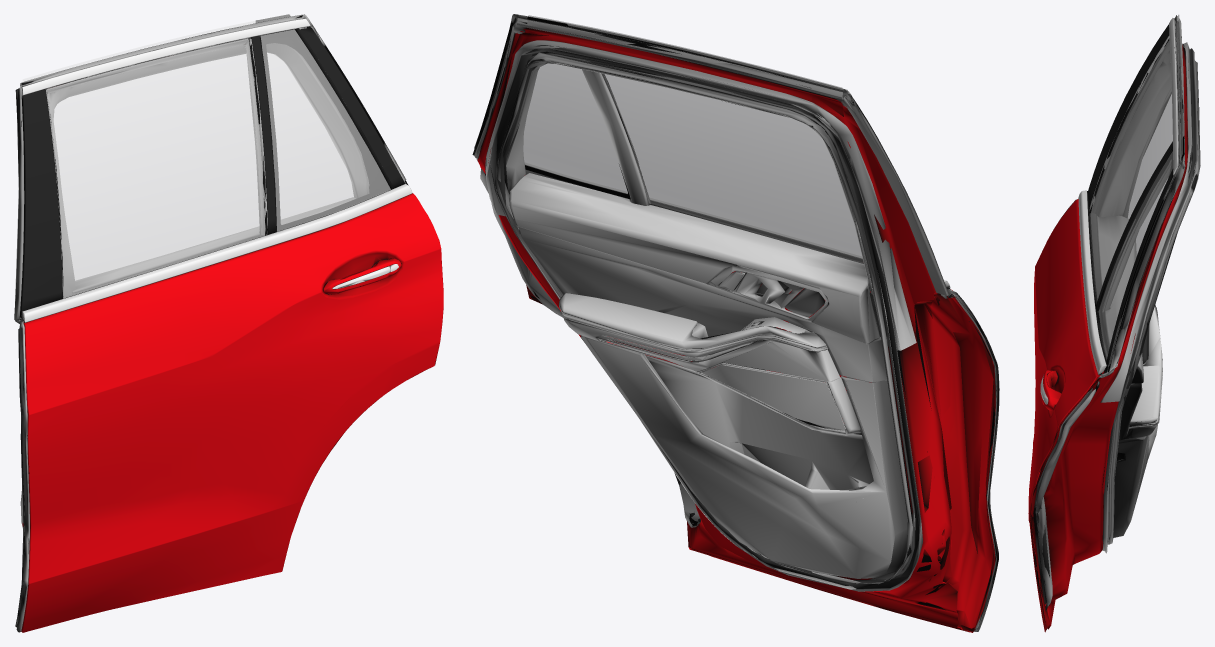
Rendered from O_G05_Doors_B.gltf.
The picture shows the model from 3 angles, left to right: view 1: azimuth 30°, elevation 25°; view 2: azimuth 150°, elevation 25°; view 3: azimuth 270°, elevation 25°; orthographic projection. The views are drawn at different scales.
Visible parts, largest first — view 1: 002_Door_B_paint, 007_Door_B_glass, 001_Door_B_interior, 006_Door_B_plastic_grained, 003_Door_B_chrome_matte, 005_Door_B_plastic_glossy; view 2: 001_Door_B_interior, 002_Door_B_paint, 007_Door_B_glass, 003_Door_B_chrome_matte; view 3: 001_Door_B_interior, 002_Door_B_paint, 007_Door_B_glass, 006_Door_B_plastic_grained, 003_Door_B_chrome_matte, 005_Door_B_plastic_glossy.
Boxes of the visible parts, x1,y1,x2,y2 form: 002_Door_B_paint: [21, 44, 443, 632]; 007_Door_B_glass: [22, 14, 390, 298]; 001_Door_B_interior: [14, 14, 406, 632]; 006_Door_B_plastic_grained: [20, 15, 410, 322]; 003_Door_B_chrome_matte: [21, 18, 412, 322]; 005_Door_B_plastic_glossy: [256, 14, 390, 231]; 001_Door_B_interior: [472, 14, 999, 631]; 002_Door_B_paint: [477, 27, 995, 632]; 007_Door_B_glass: [523, 15, 863, 263]; 003_Door_B_chrome_matte: [525, 91, 950, 288]; 001_Door_B_interior: [1033, 15, 1200, 610]; 002_Door_B_paint: [1028, 45, 1187, 632]; 007_Door_B_glass: [1090, 15, 1182, 357]; 006_Door_B_plastic_grained: [1053, 16, 1180, 407]; 003_Door_B_chrome_matte: [1078, 18, 1178, 374]; 005_Door_B_plastic_glossy: [1100, 136, 1184, 353].
Size of the model in its own units: 117 by 130 by 38.6.
